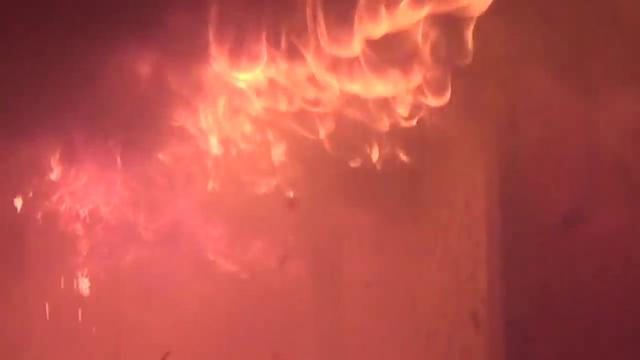fire: (9, 0, 496, 301)
smoke: (0, 0, 640, 342)
